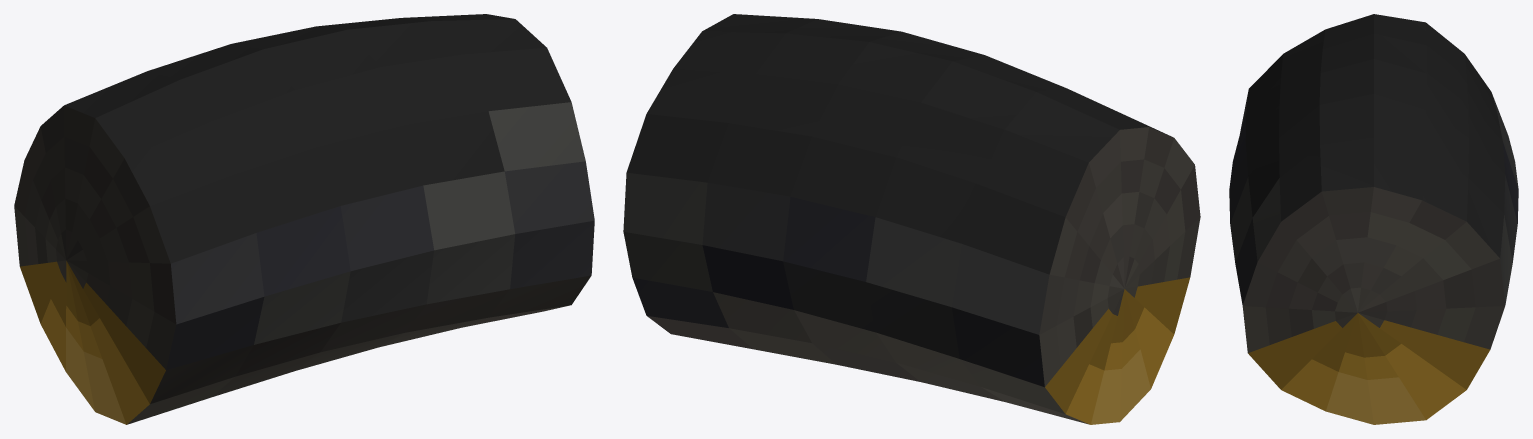
Rendered from Petrified_Wood.glb.
3 renders of one model, left to right at view 1: azimuth 30°, elevation 25°; view 2: azimuth 150°, elevation 25°; view 3: azimuth 270°, elevation 25°, orthographic. The views are drawn at different scales.
Visible parts, largest first — view 1: Petrified_Wood; view 2: Petrified_Wood; view 3: Petrified_Wood.
Part boxes in pixels (<box>): Petrified_Wood: <box>14,14,594,424</box>; Petrified_Wood: <box>623,14,1200,424</box>; Petrified_Wood: <box>1229,14,1518,424</box>.
Bounding box in the file's own units: 1.08 × 0.7319 × 0.7192.
